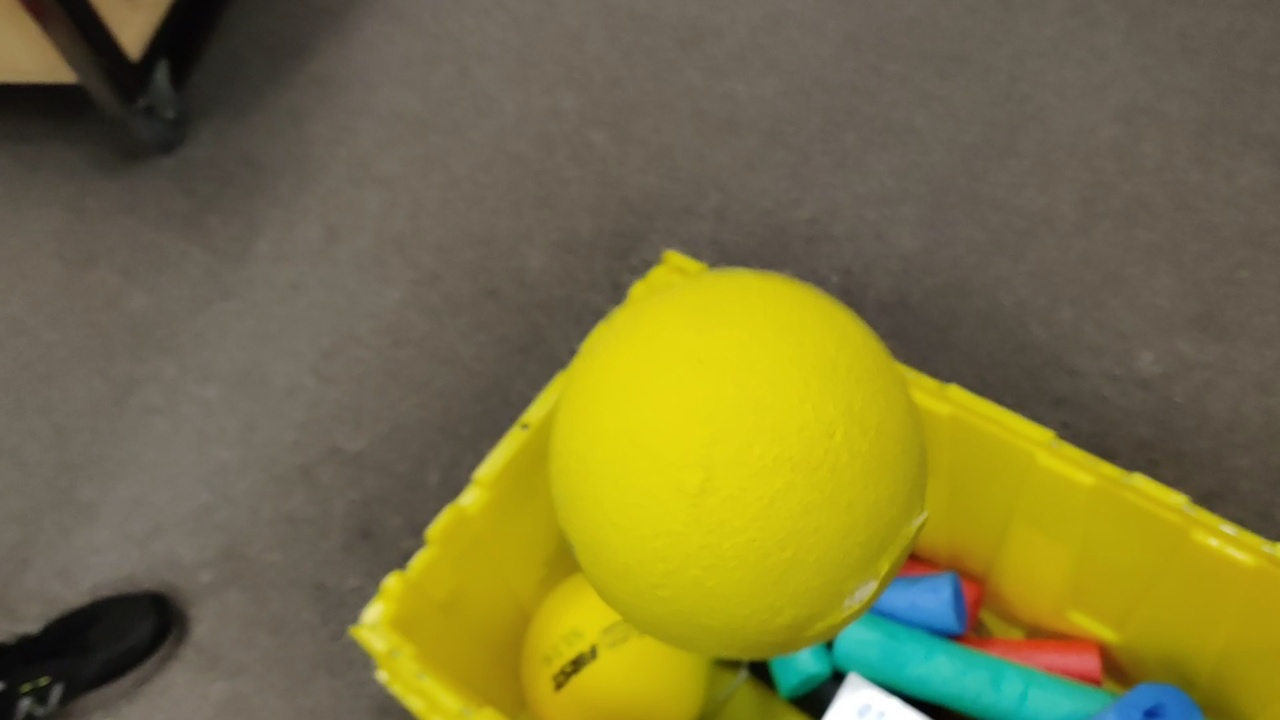Ball: (548, 269, 927, 659), (519, 571, 711, 720)
